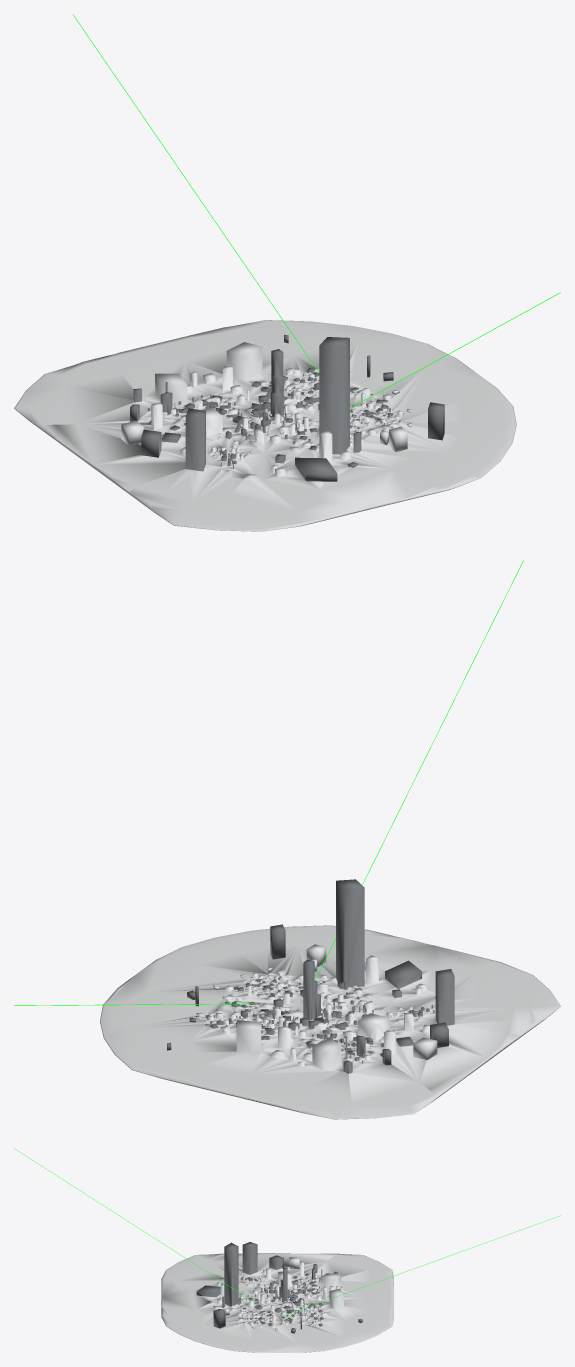
The model's file is MainMesh.gltf.
3 views of the same model, one above another, from view 1: azimuth 30°, elevation 25°; view 2: azimuth 150°, elevation 25°; view 3: azimuth 270°, elevation 25° (orthographic). The views are drawn at different scales.
Visible parts, largest first — view 1: obj_0; view 2: obj_0; view 3: obj_0, Cylinder.
Part boxes in pixels (x1,y1,x2,y2): obj_0: [14, 320, 516, 531]; obj_0: [100, 879, 560, 1119]; obj_0: [161, 1242, 393, 1352]; Cylinder: [282, 1215, 560, 1316].
Size of the model in its own units: 151 by 116 by 355.
